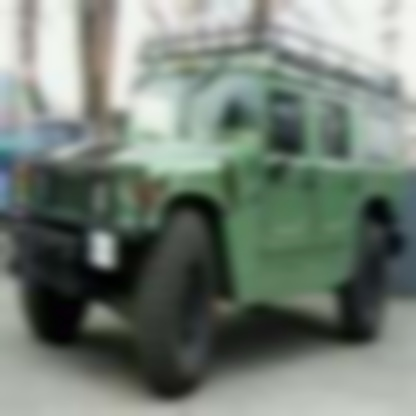Vehicle: (2, 23, 414, 411)
